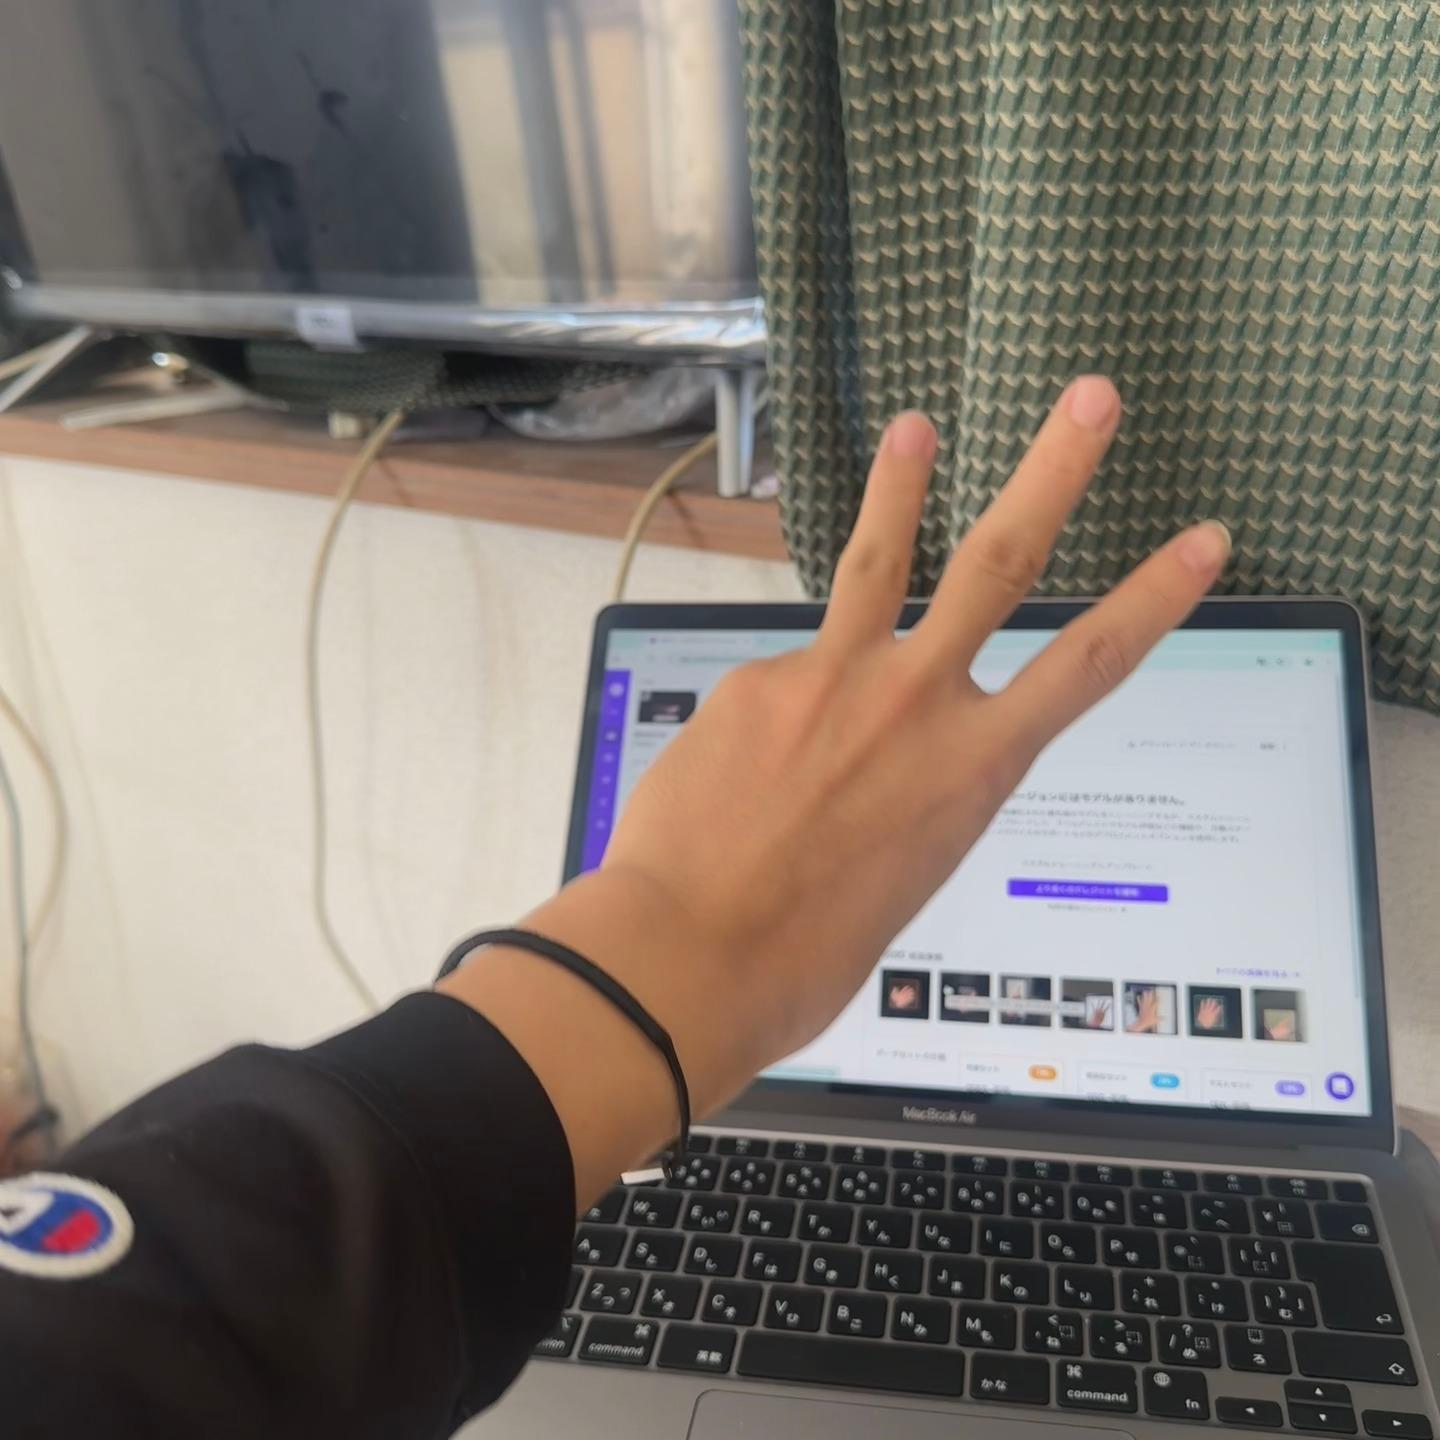without_gloves: (564, 210, 1180, 1124)
